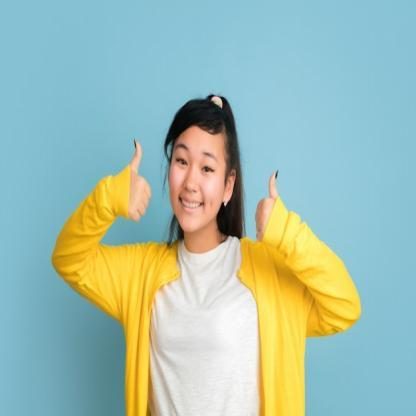thumb_up: (121, 135, 153, 224), (251, 165, 283, 251)
